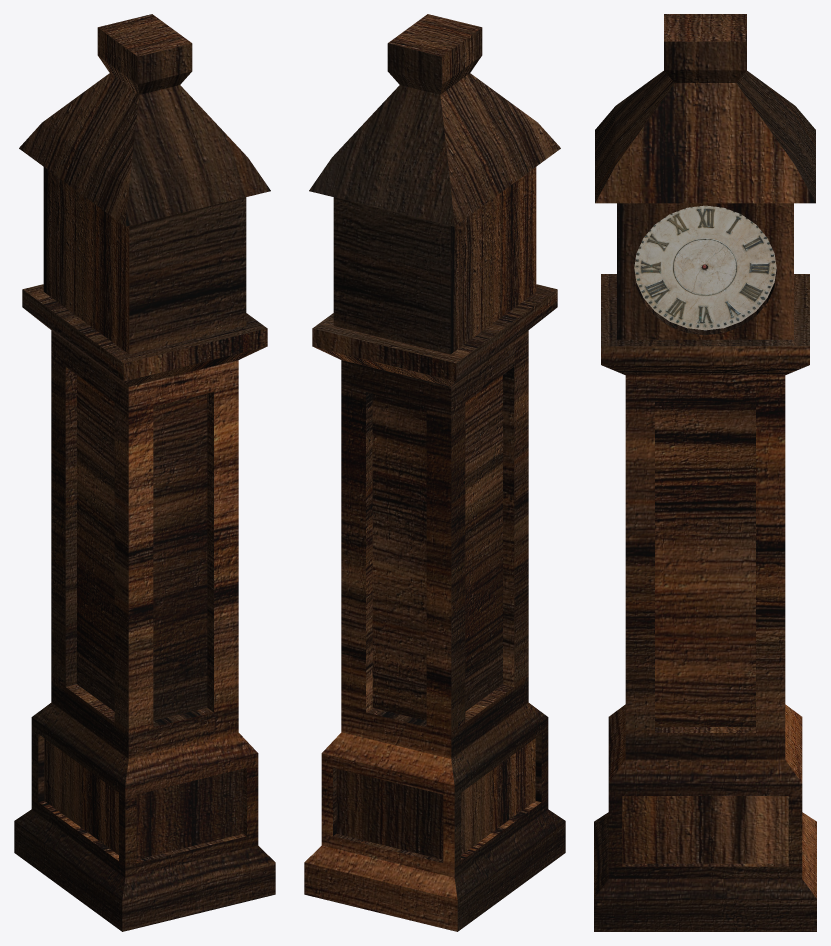
Rendered from Watch.fbx.
The picture shows the model from 3 angles, left to right: view 1: azimuth 30°, elevation 25°; view 2: azimuth 150°, elevation 25°; view 3: azimuth 270°, elevation 25°; orthographic projection. The views are drawn at different scales.
Visible parts, largest first — view 1: Cube; view 2: Cube; view 3: Cube.
Part boxes in pixels (x1,y1,x2,y2): Cube: [14, 14, 275, 931]; Cube: [304, 14, 565, 931]; Cube: [594, 14, 816, 931].
Size of the model in its own units: 164 by 857 by 200.
